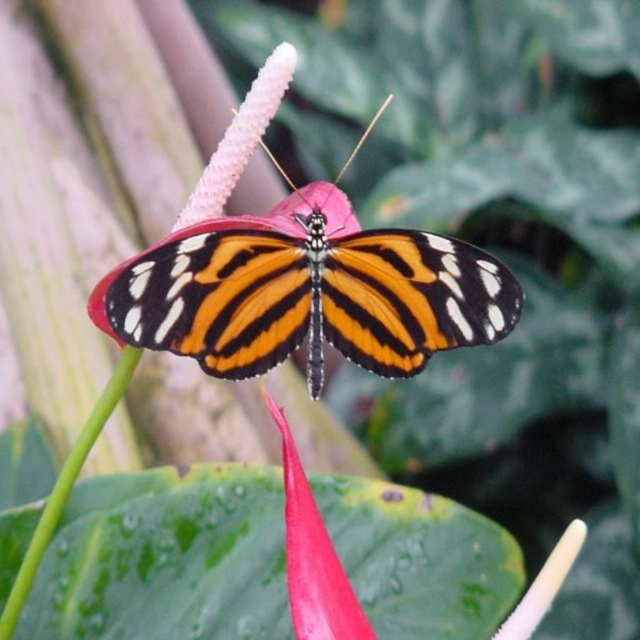Butterfly: (83, 113, 520, 392)
